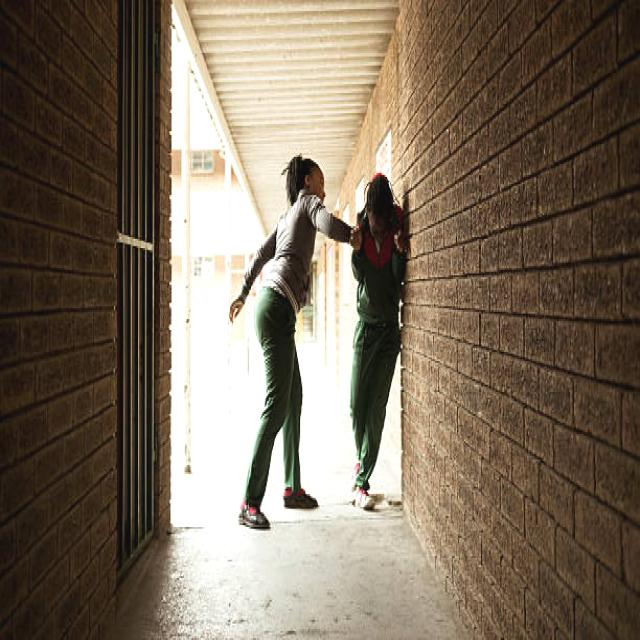fight: (252, 143, 407, 538)
